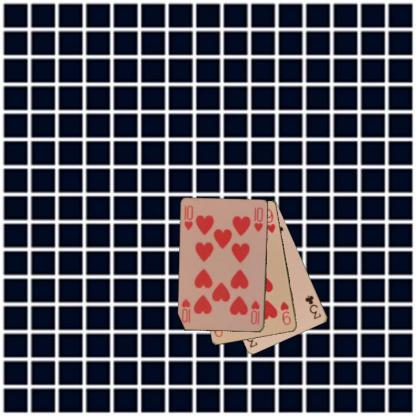10h: (181, 203, 195, 232), (249, 298, 260, 326)
3c: (302, 292, 323, 321)
9h: (278, 299, 292, 326)
